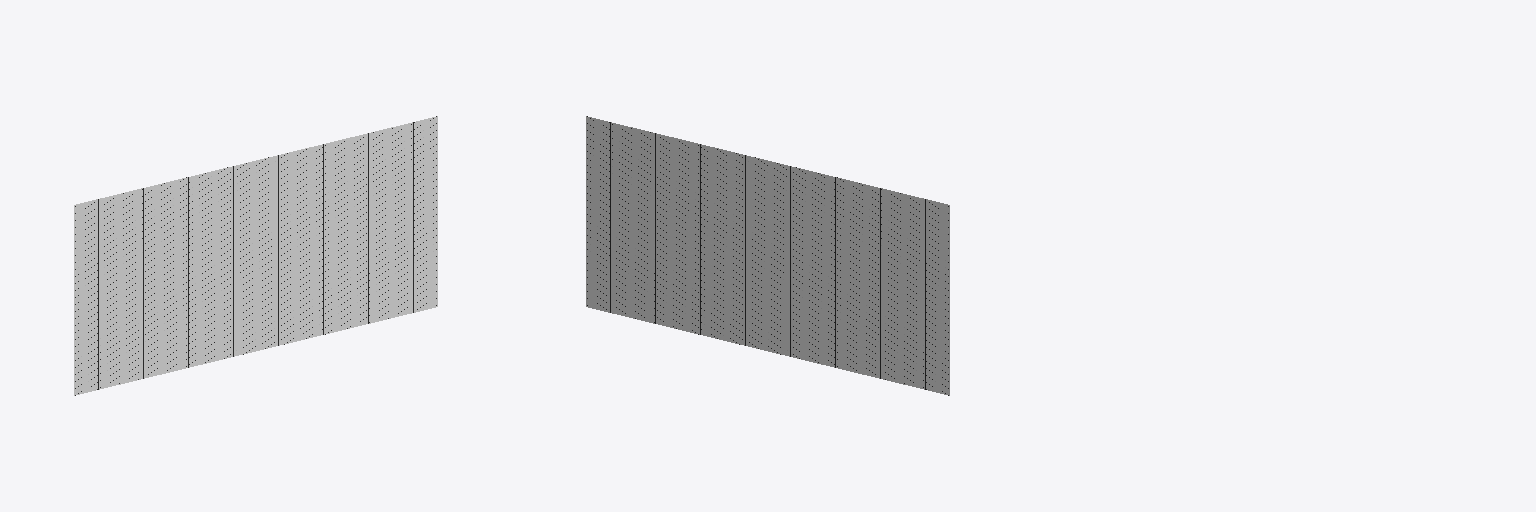
The picture shows the model from 3 angles: view 1: azimuth 30°, elevation 25°; view 2: azimuth 150°, elevation 25°; view 3: azimuth 270°, elevation 25°; orthographic projection.
Parts seen in each view (by area): view 1: Plane.001; view 2: Plane.001; view 3: none.
Boxes of the visible parts, box(x1,y1,x2,y2) form: Plane.001: box(74, 116, 437, 395); Plane.001: box(586, 116, 949, 395).
Bounding box in the file's own units: 400 × 200 × 0.
1 materials, 1 textured.